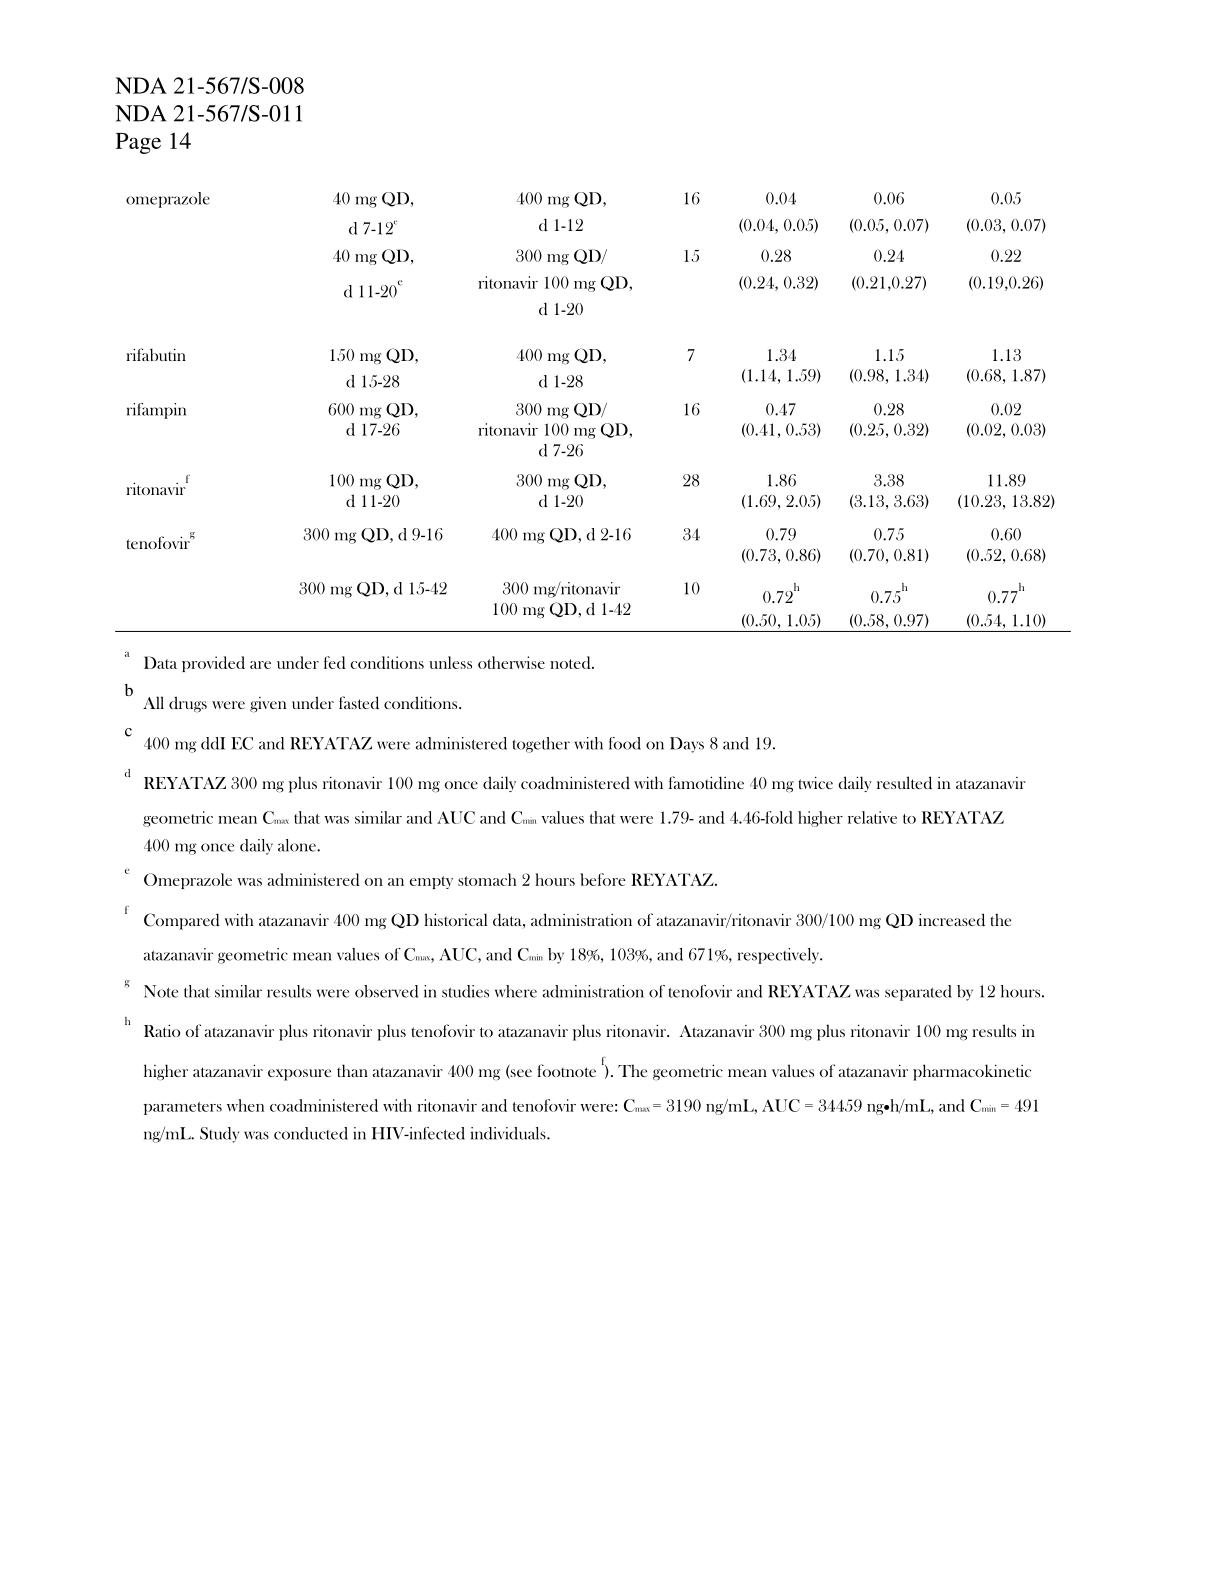nolines: (120, 192, 1056, 629)
